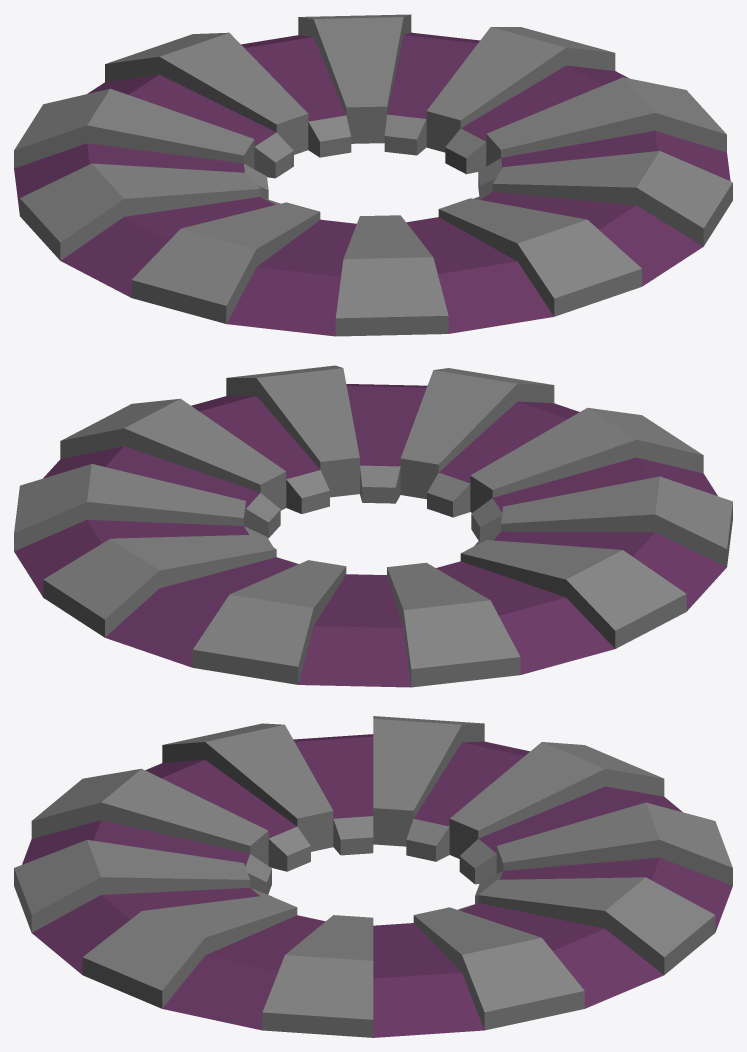
Rendered from TrypticonBaseEntrance.fbx.
3 views of the same model, one above another, from view 1: azimuth 30°, elevation 25°; view 2: azimuth 150°, elevation 25°; view 3: azimuth 270°, elevation 25° (orthographic).
Visible parts, largest first — view 1: pTorus1; view 2: pTorus1; view 3: pTorus1.
Part boxes in pixels (x1,y1,x2,y2): pTorus1: (14,14,732,336); pTorus1: (14,365,732,687); pTorus1: (14,716,732,1037).
Bounding box in the file's own units: 14.7 × 1.34 × 14.7.
